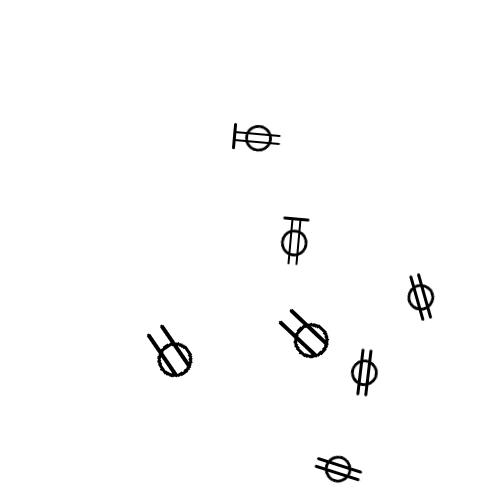Duplex-Receptacle: (141, 335, 200, 371), (276, 317, 335, 353), (231, 121, 283, 154), (269, 225, 321, 258), (393, 281, 446, 312), (337, 356, 390, 387), (313, 453, 366, 484)
